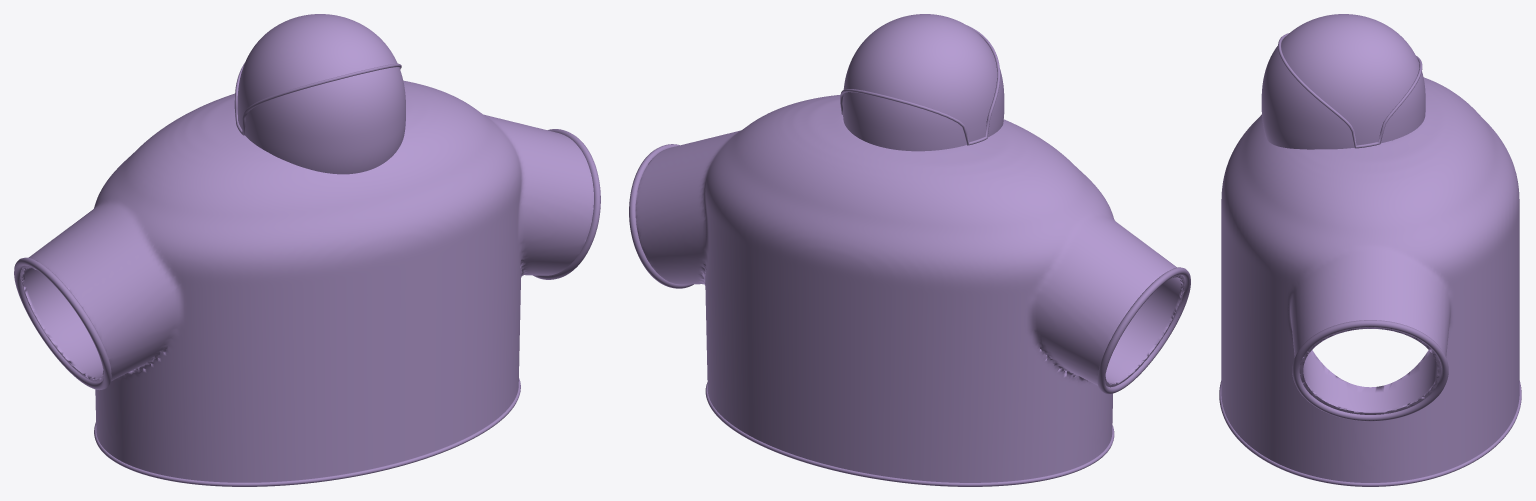
The model's file is Masculine-sweatshirt-top.glb.
3 renders of one model, left to right at view 1: azimuth 30°, elevation 25°; view 2: azimuth 150°, elevation 25°; view 3: azimuth 270°, elevation 25°, orthographic. The views are drawn at different scales.
Visible parts, largest first — view 1: Clothing / sweatshirt, Sleeve / open cuff -1 export, Shirt / hem export, Sleeve / open cuff 1 export, Neckline / seated binding export; view 2: Clothing / sweatshirt, Sleeve / open cuff -1 export, Shirt / hem export, Sleeve / open cuff 1 export, Neckline / seated binding export; view 3: Clothing / sweatshirt, Sleeve / open cuff 1 export, Shirt / hem export, Neckline / seated binding export.
Part boxes in pixels (x1,y1,x2,y2): Clothing / sweatshirt: [20, 14, 593, 482]; Sleeve / open cuff -1 export: [14, 257, 111, 390]; Shirt / hem export: [94, 378, 520, 486]; Sleeve / open cuff 1 export: [533, 129, 600, 279]; Neckline / seated binding export: [234, 63, 401, 135]; Clothing / sweatshirt: [635, 14, 1184, 482]; Sleeve / open cuff -1 export: [1097, 267, 1190, 394]; Shirt / hem export: [705, 382, 1114, 486]; Sleeve / open cuff 1 export: [629, 144, 693, 288]; Neckline / seated binding export: [840, 25, 1000, 145]; Clothing / sweatshirt: [1221, 14, 1519, 482]; Sleeve / open cuff 1 export: [1292, 320, 1448, 421]; Shirt / hem export: [1219, 381, 1521, 486]; Neckline / seated binding export: [1278, 33, 1422, 148].
Bounding box in the file's own units: 1.09 × 0.772 × 0.564.
